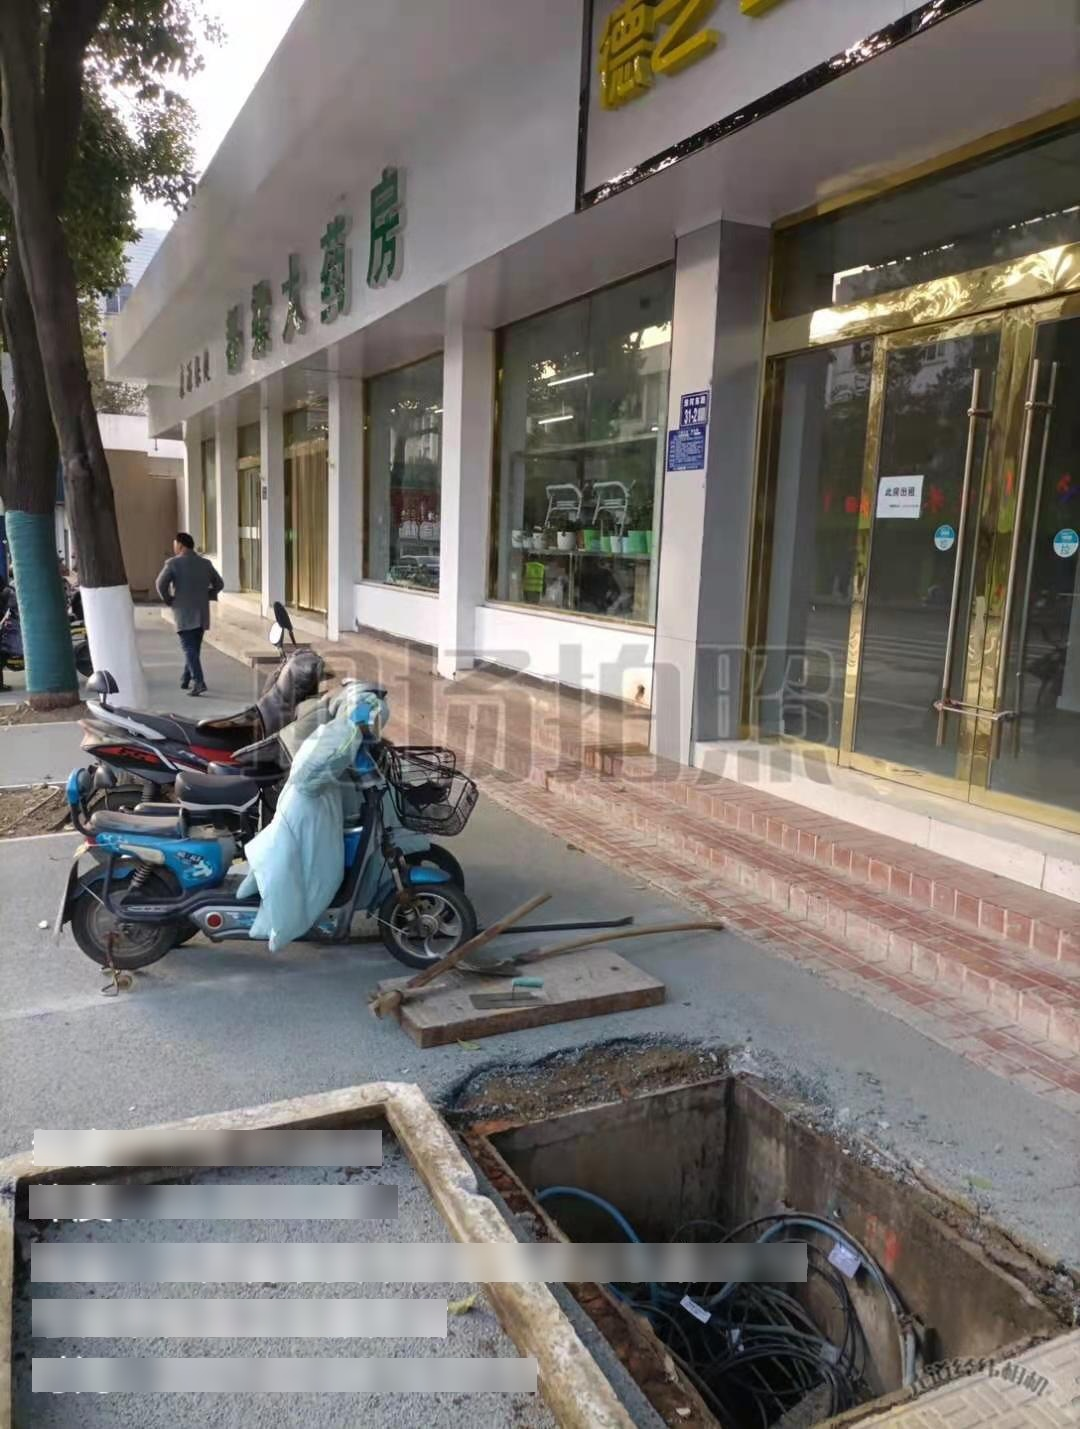lose: (455, 1062, 1075, 1429)
